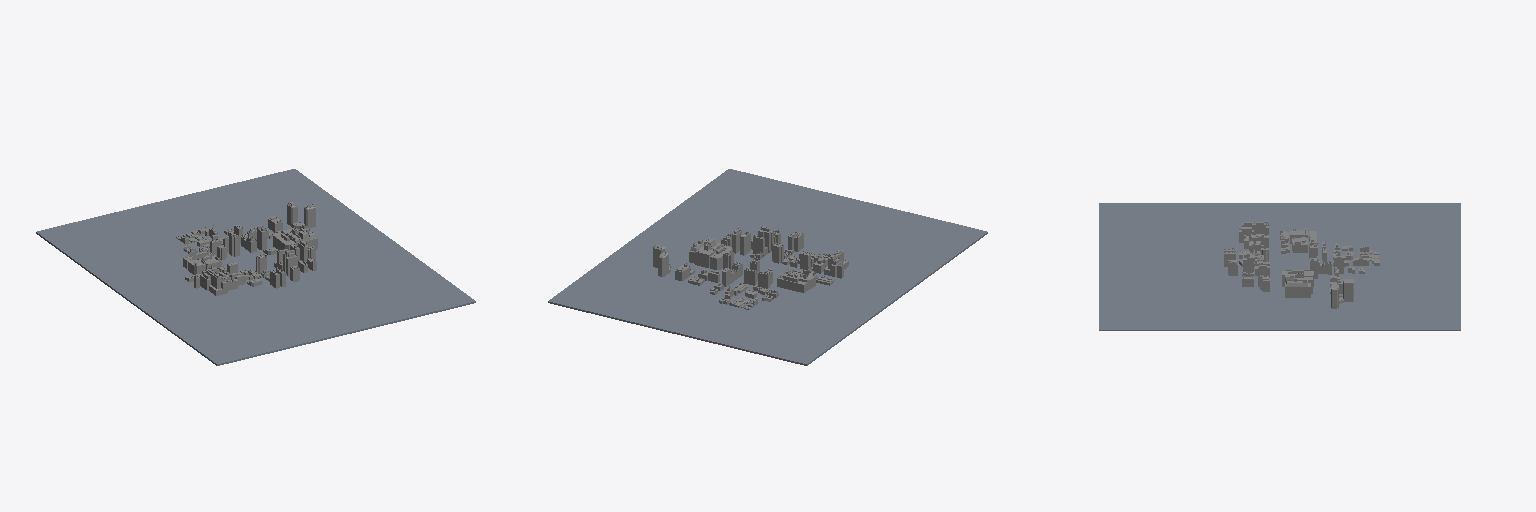
File: peilou.obj
The picture shows the model from 3 angles: view 1: azimuth 30°, elevation 25°; view 2: azimuth 150°, elevation 25°; view 3: azimuth 270°, elevation 25°; orthographic projection.
Parts seen in each view (by area): view 1: Box01, Line22, Shape03, Shape01, Box03; view 2: Box01, Shape03, Line22, Shape01, PJL_HWX_474; view 3: Box01, Shape03, Line22.
Part boxes in pixels (bbox=[...]): Box01: bbox=[36, 169, 475, 365]; Line22: bbox=[250, 202, 315, 238]; Shape03: bbox=[273, 225, 317, 250]; Shape01: bbox=[183, 251, 221, 274]; Box03: bbox=[200, 269, 227, 295]; Box01: bbox=[548, 169, 987, 365]; Shape03: bbox=[689, 238, 732, 269]; Line22: bbox=[653, 245, 708, 285]; Shape01: bbox=[777, 269, 815, 292]; PJL_HWX_474: bbox=[750, 226, 773, 259]; Box01: bbox=[1099, 203, 1460, 330]; Shape03: bbox=[1282, 270, 1313, 297]; Line22: bbox=[1330, 276, 1353, 308].
Size of the model in its own units: 102658 by 9289 by 124546.